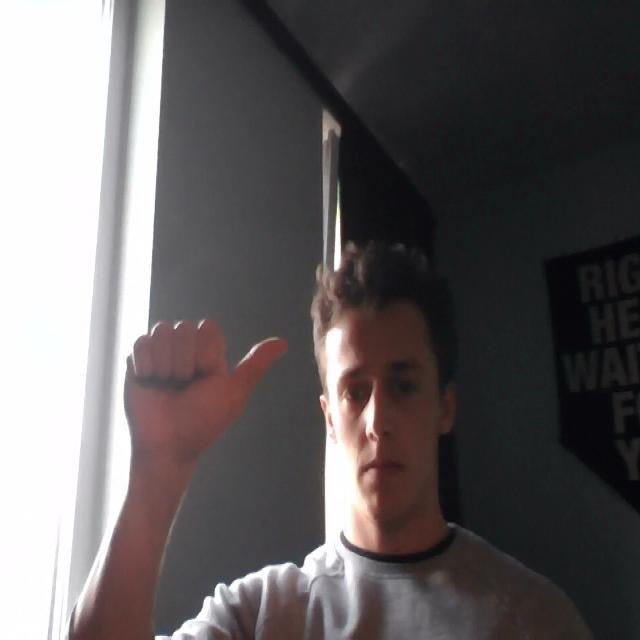right: (110, 299, 298, 486)
